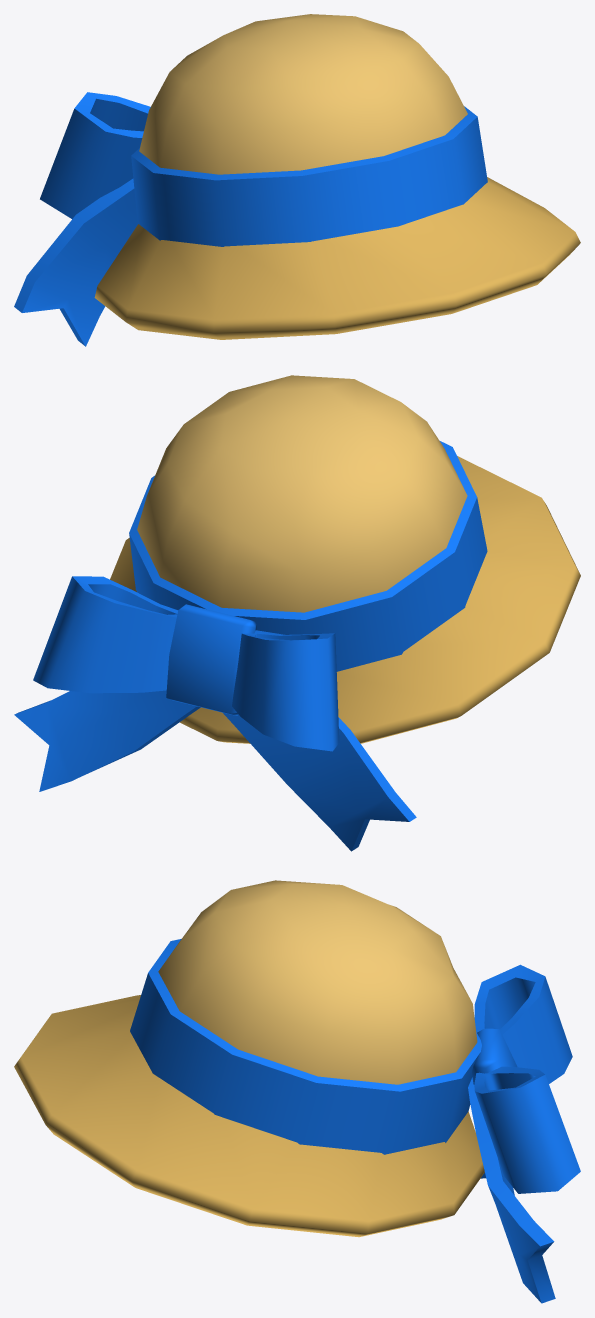
The model's file is Headgear_17.fbx.
3 renders of one model, top to bottom at view 1: azimuth 30°, elevation 25°; view 2: azimuth 150°, elevation 25°; view 3: azimuth 270°, elevation 25°, orthographic.
Parts seen in each view (by area): view 1: Headgear_17; view 2: Headgear_17; view 3: Headgear_17.
Part boxes in pixels (box(x1,y1,x2,y2)): Headgear_17: box(14, 14, 580, 346); Headgear_17: box(14, 375, 580, 851); Headgear_17: box(14, 880, 580, 1303).
Bounding box in the file's own units: 89.16 × 69.83 × 104.
